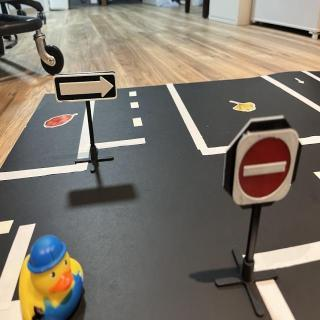duck_specialty: (19, 234, 87, 320)
sign_noentry: (235, 131, 303, 211)
sign_oneway_right: (54, 74, 120, 106)
